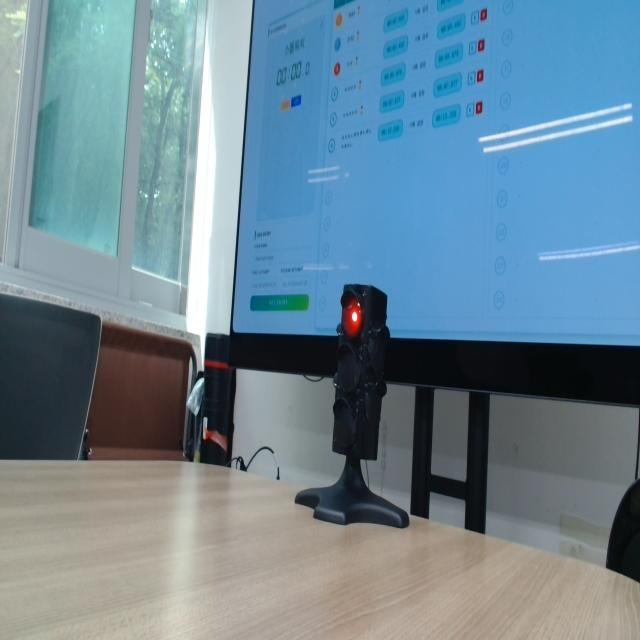red_light: (342, 297, 362, 338)
